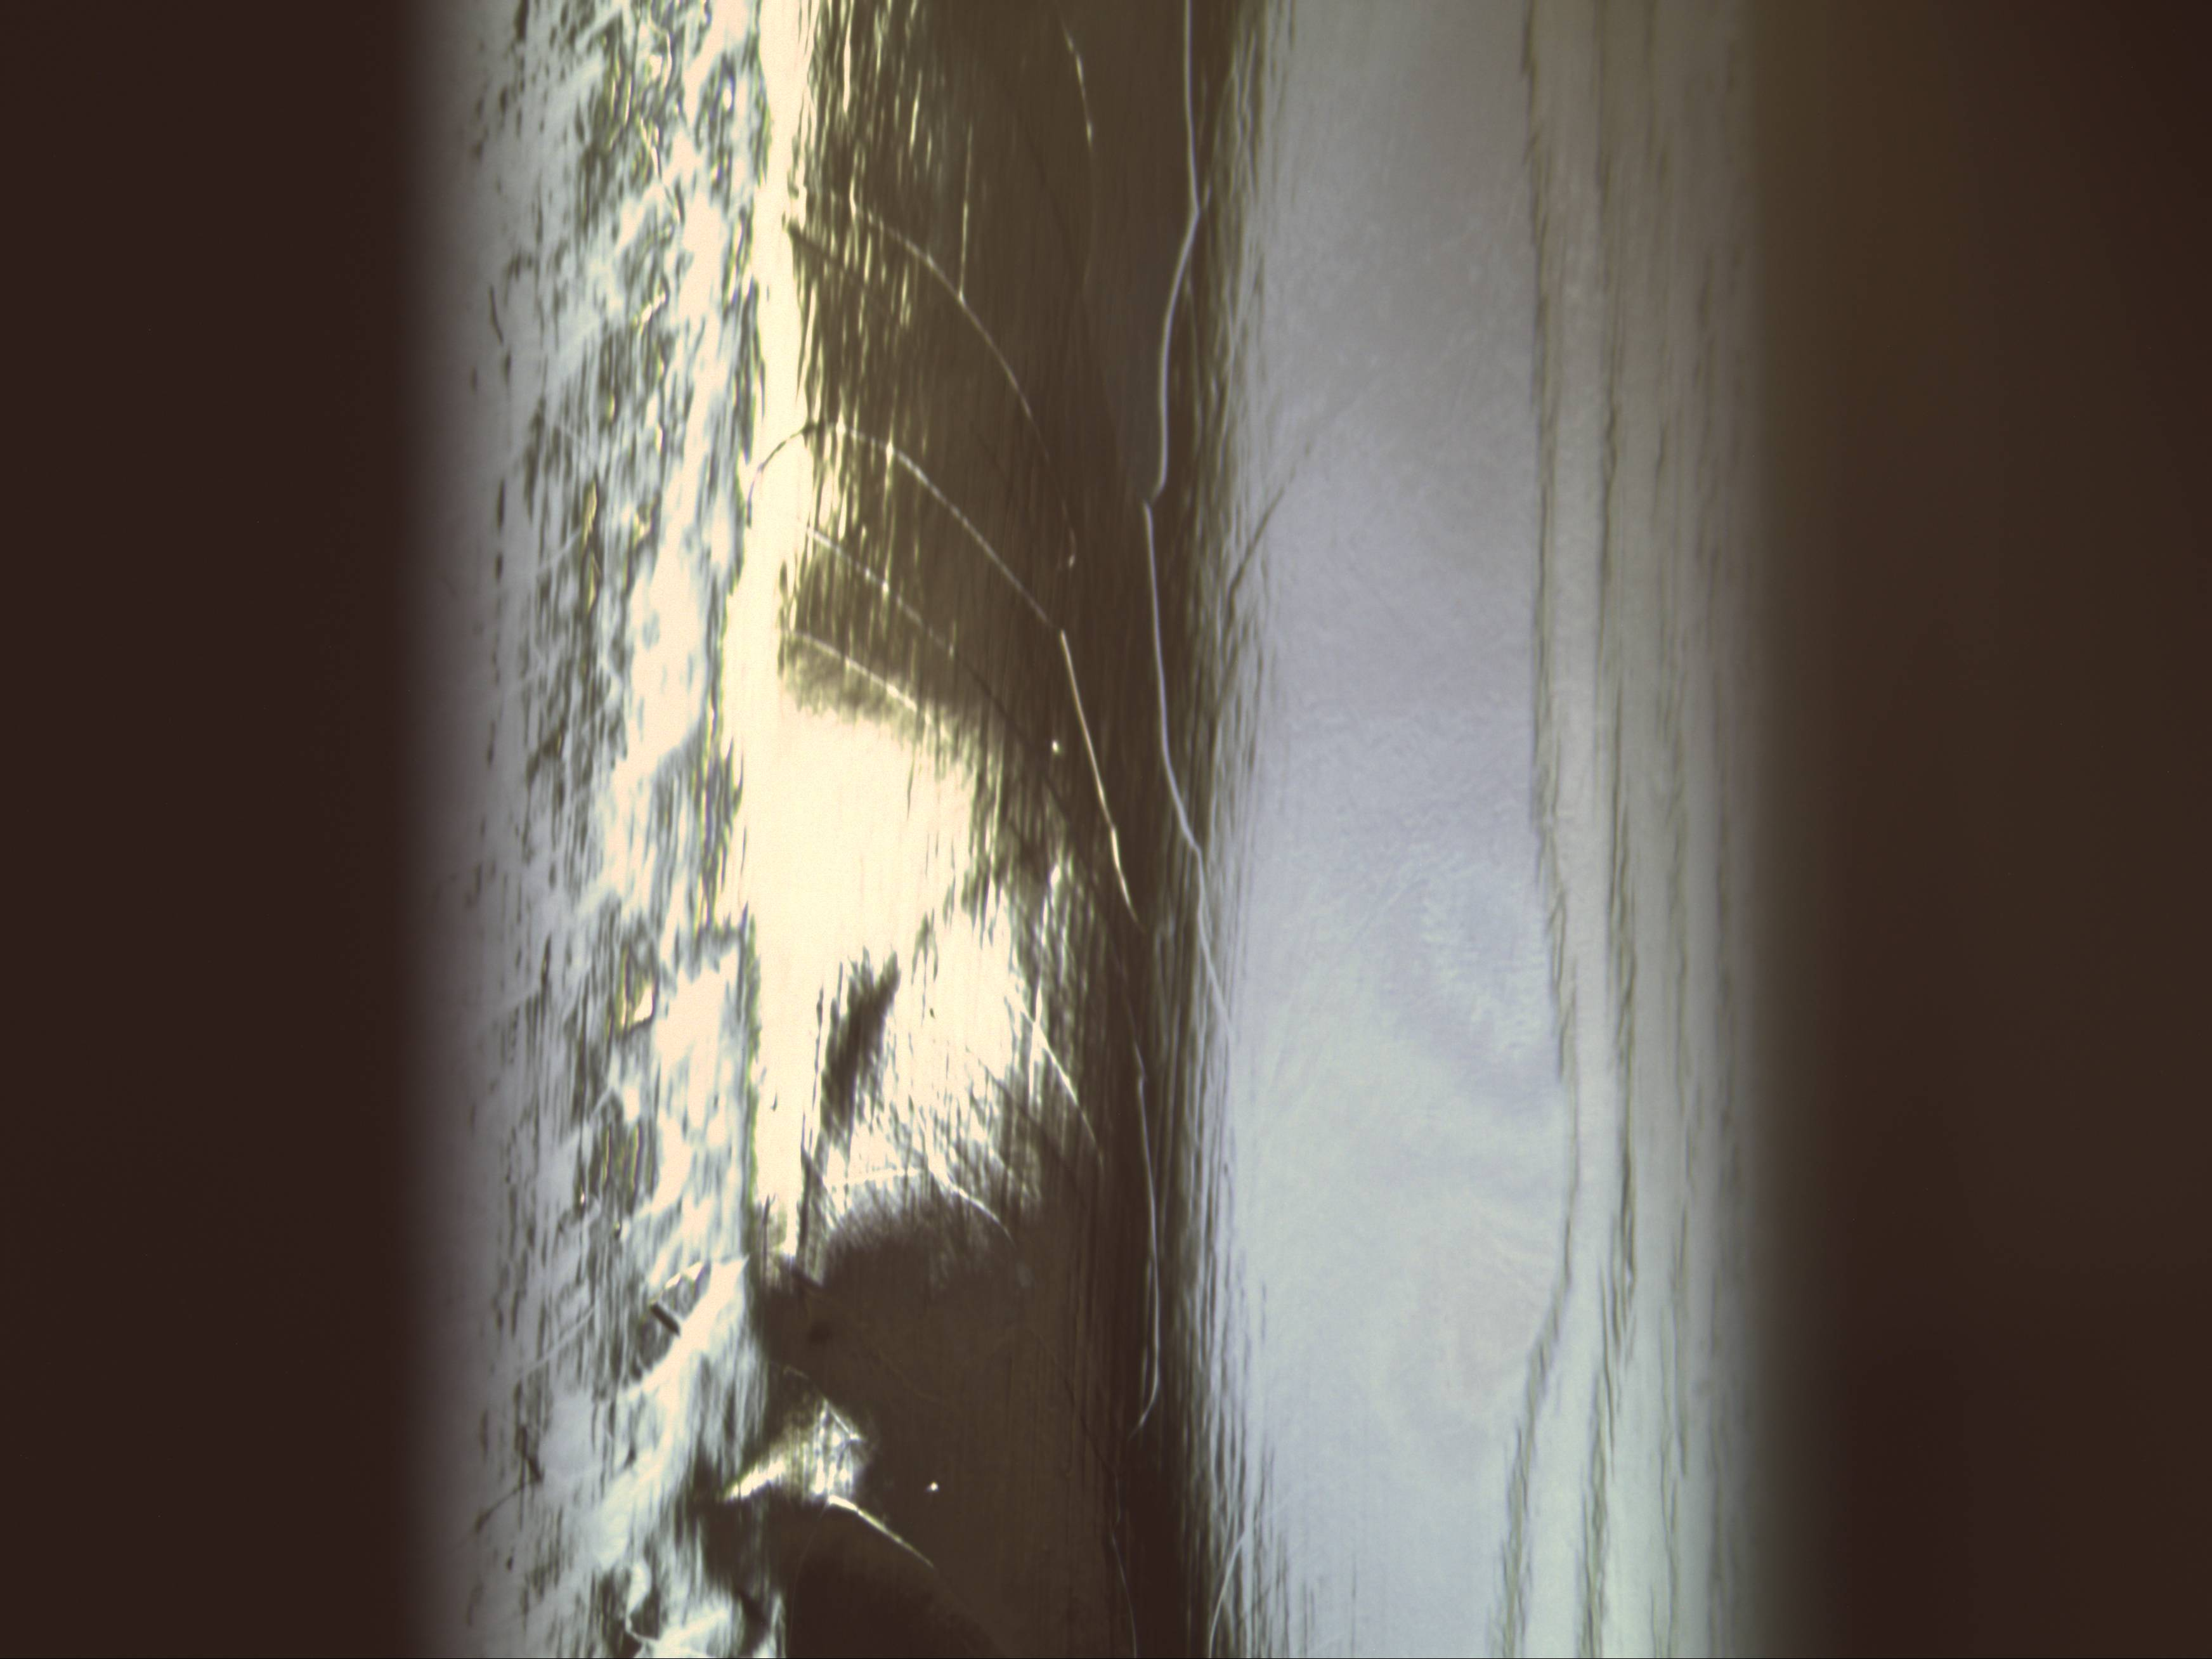defect: (911, 1466, 949, 1500), (1035, 727, 1068, 765)
